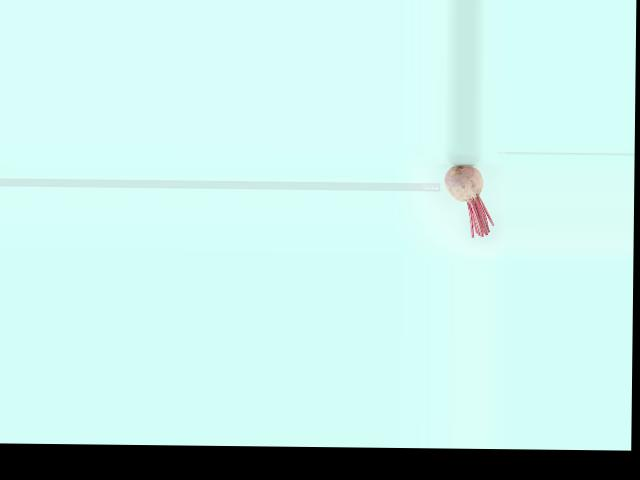beet: (443, 164, 494, 237)
